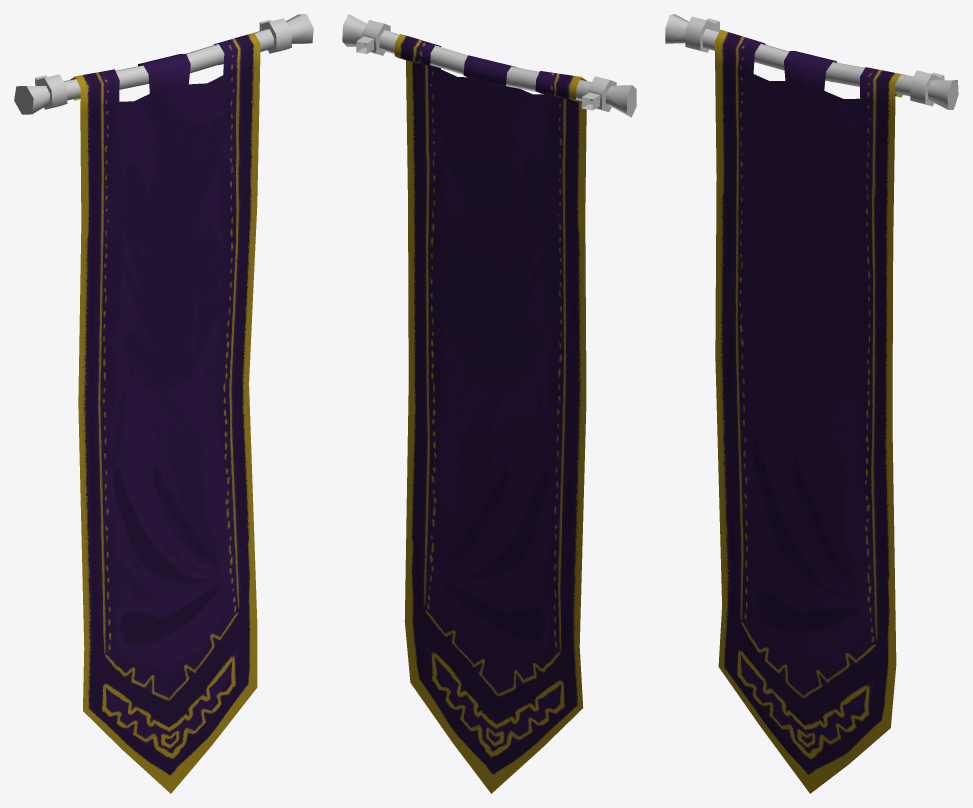
The model's file is SM_PROP_flag_dungeon_09.fbx.
The picture shows the model from 3 angles, left to right: view 1: azimuth 30°, elevation 25°; view 2: azimuth 150°, elevation 25°; view 3: azimuth 330°, elevation 25°; orthographic projection.
Parts seen in each view (by area): view 1: SM_PROP_flag_dungeon_09; view 2: SM_PROP_flag_dungeon_09; view 3: SM_PROP_flag_dungeon_09.
Boxes of the visible parts, left/top/right/bottom form: SM_PROP_flag_dungeon_09: left=14, top=14, right=313, bottom=793; SM_PROP_flag_dungeon_09: left=342, top=14, right=636, bottom=793; SM_PROP_flag_dungeon_09: left=665, top=14, right=958, bottom=793.
Bounding box in the file's own units: 166 × 414 × 21.4.
